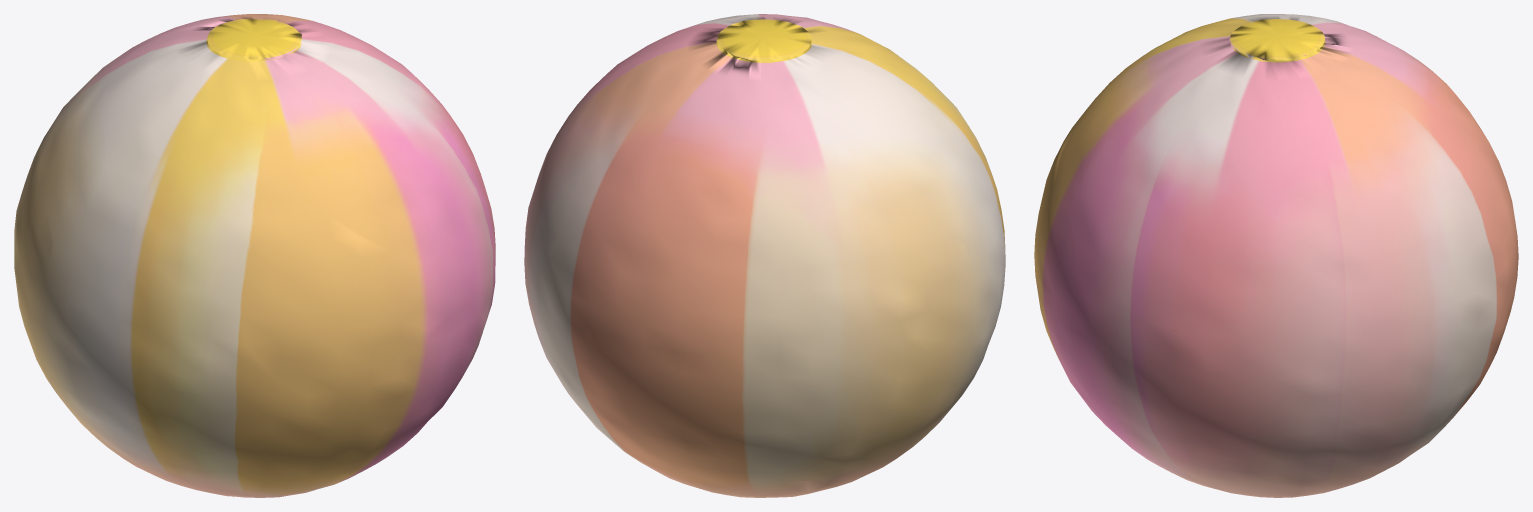
Rendered from beach-ball.fbx.
3 views of the same model, side by side, from view 1: azimuth 30°, elevation 25°; view 2: azimuth 150°, elevation 25°; view 3: azimuth 270°, elevation 25° (orthographic).
Visible parts, largest first — view 1: Mesh_0; view 2: Mesh_0; view 3: Mesh_0.
Part boxes in pixels (<box>): Mesh_0: <box>14,14,495,497</box>; Mesh_0: <box>524,14,1005,497</box>; Mesh_0: <box>1034,14,1518,497</box>.
Size of the model in its own units: 199 by 200 by 199.
Materials: 1 (1 with a texture image).
